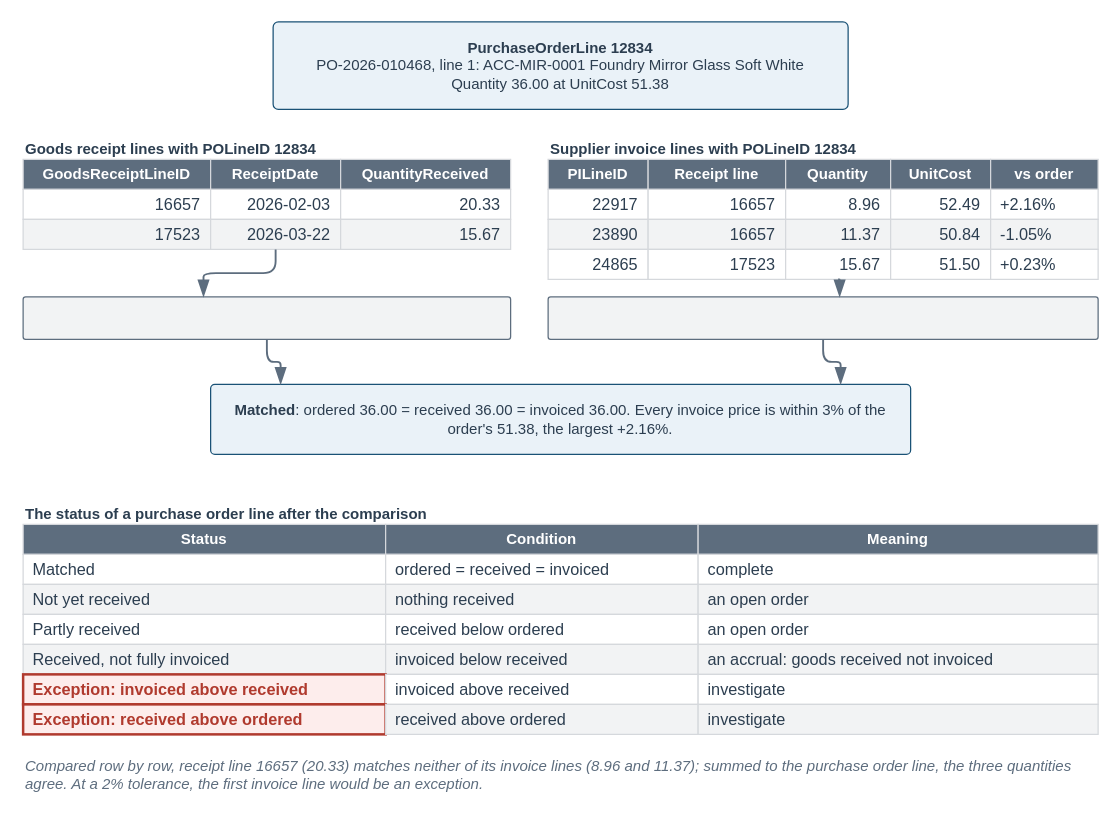
This 1120x824 diagram has some shape labels left out. The centre of each missing label's shape, as x and y in pixels:
SUM(Quantity) = 36.00: point 822,317
SUM(QuantityReceived) = 36.00: point 266,317
